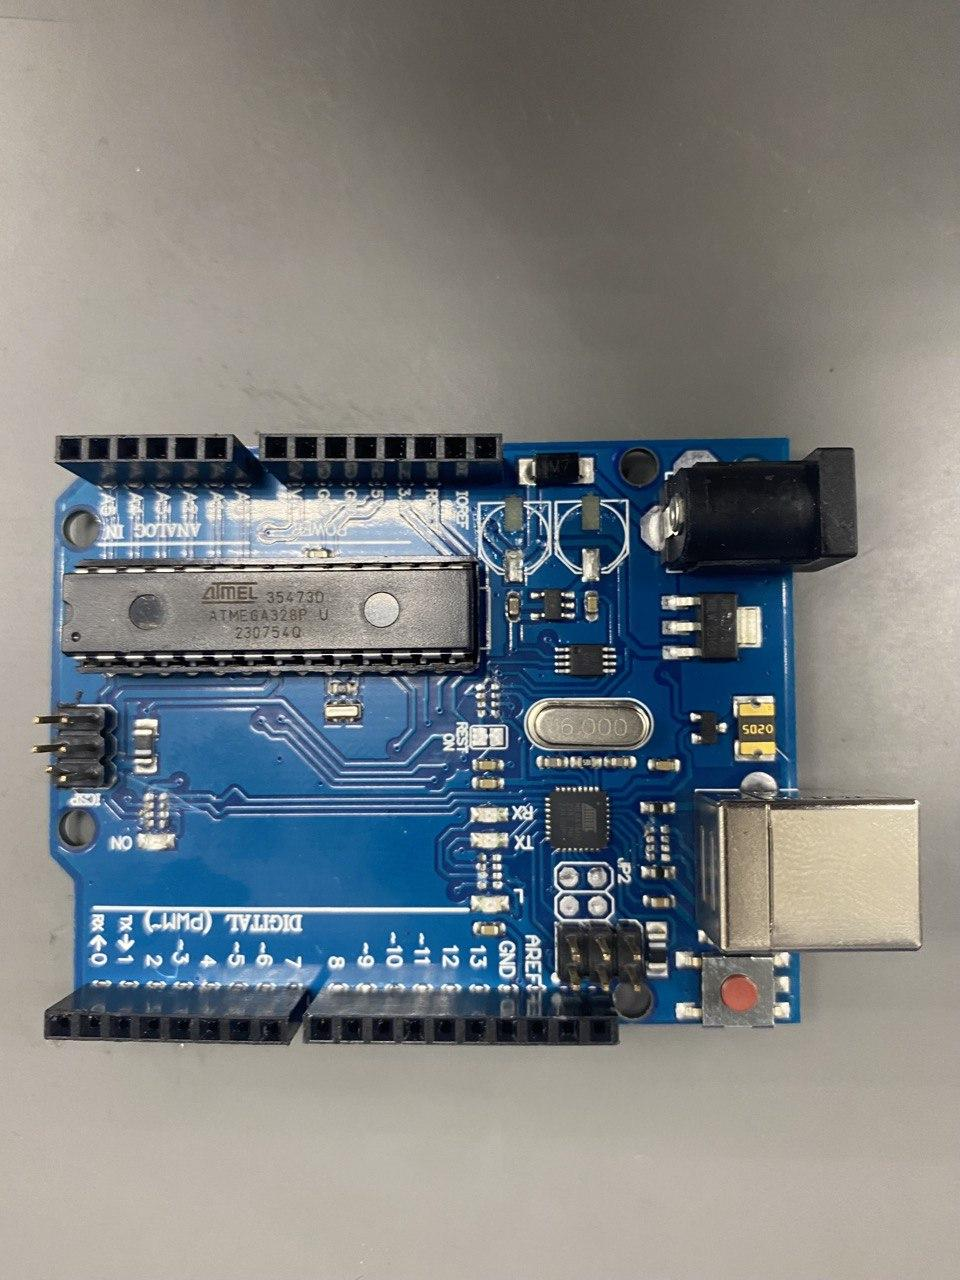ATmega328 chip: (60, 555, 478, 676)
Arduino board: (33, 433, 922, 1046)
USB: (693, 787, 922, 952)
pins: (303, 990, 620, 1044), (44, 985, 309, 1047), (260, 432, 503, 490), (55, 434, 257, 487)
